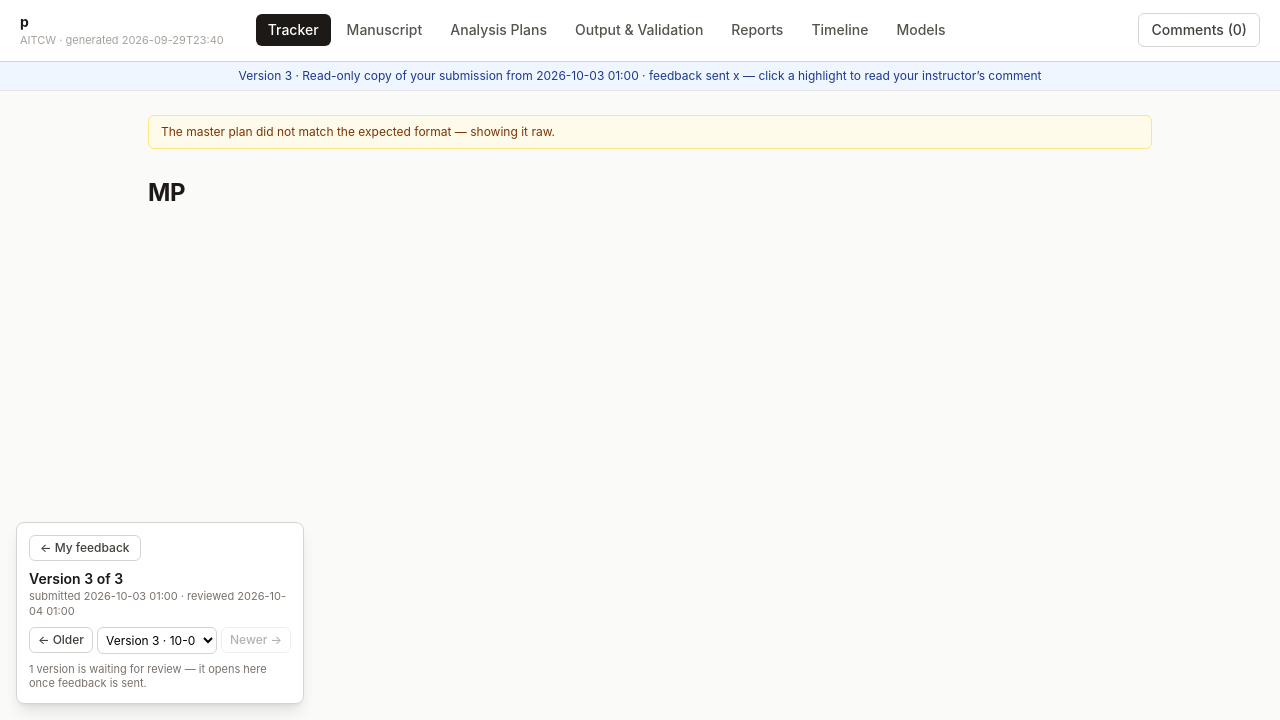
Test: StudentHistoryApp (/me/board) › numbers versions among all submissions and switches between reviewed ones only
Check: the text with test id "version-heading" reads "Version 3 of 3", box [29,570,123,587]
Check: the text "Version 3 · Read-only copy" is shown, box [0,60,1279,90]
Click the button "← Older". click: click(61, 640)
box: [29,627,93,653]
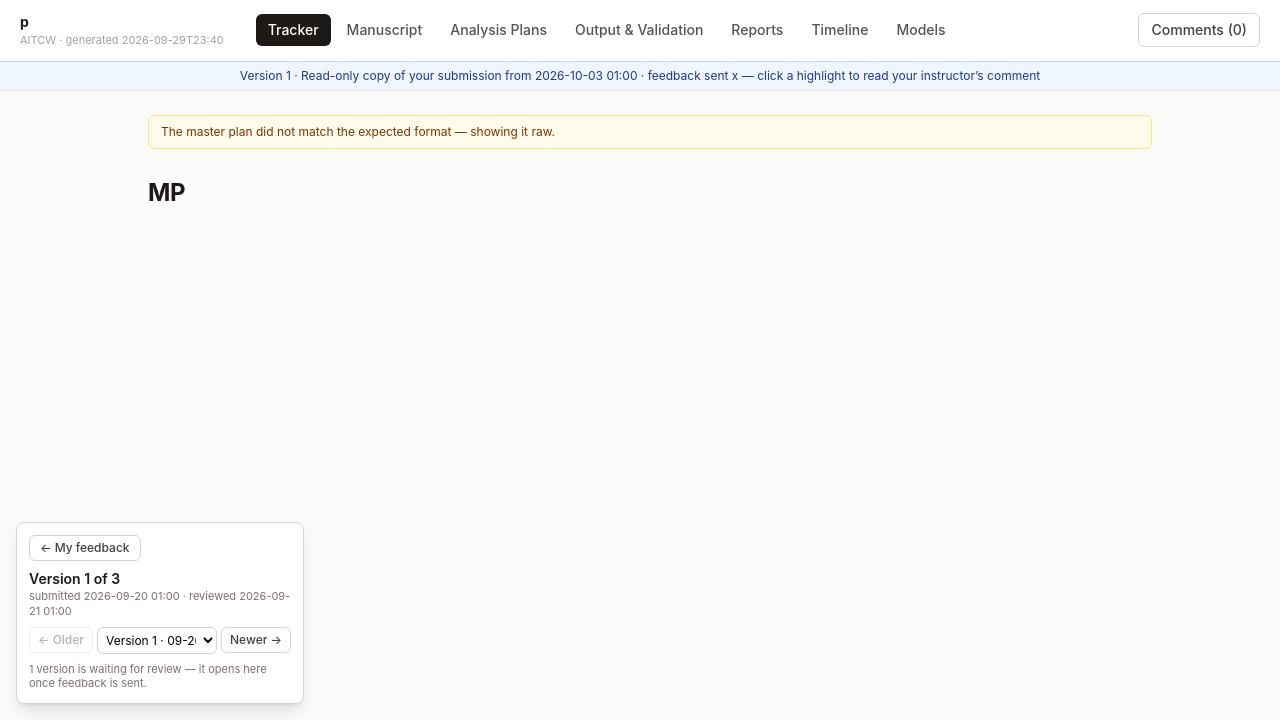
Check: the text with test id "version-heading" reads "Version 1 of 3", box [29,570,120,587]
